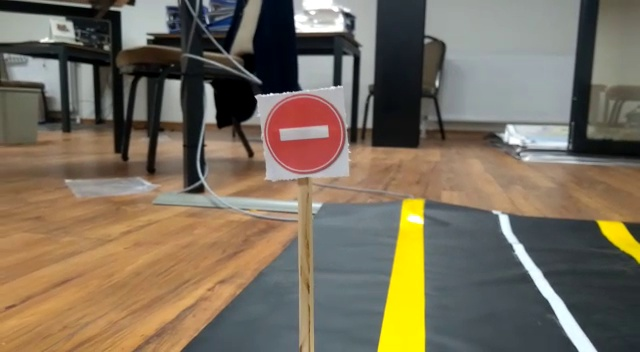girisi_olmayan_yol: (266, 91, 343, 175)
